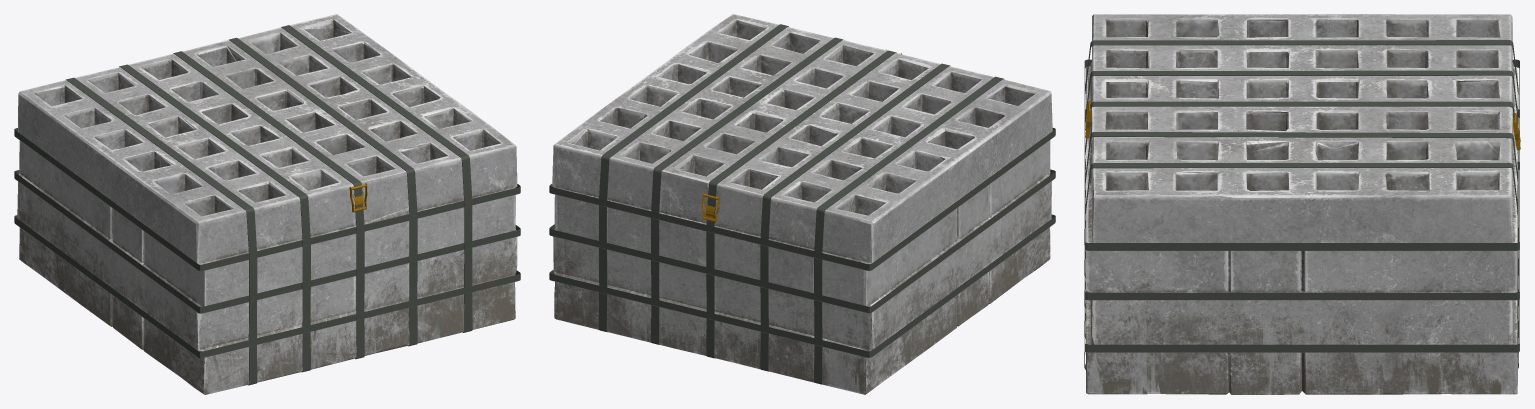
The model's file is SM_Cinder_Blocks.glb.
3 renders of one model, left to right at view 1: azimuth 30°, elevation 25°; view 2: azimuth 150°, elevation 25°; view 3: azimuth 270°, elevation 25°, orthographic. The views are drawn at different scales.
Parts seen in each view (by area): view 1: SM_Cinder_Blocks; view 2: SM_Cinder_Blocks; view 3: SM_Cinder_Blocks.
Part boxes in pixels (<box>): SM_Cinder_Blocks: <box>14,14,520,394</box>; SM_Cinder_Blocks: <box>549,14,1055,394</box>; SM_Cinder_Blocks: <box>1084,14,1520,394</box>.
Size of the model in its own units: 1.02 by 0.5259 by 1.02.
Materials: 3 (3 with a texture image).
